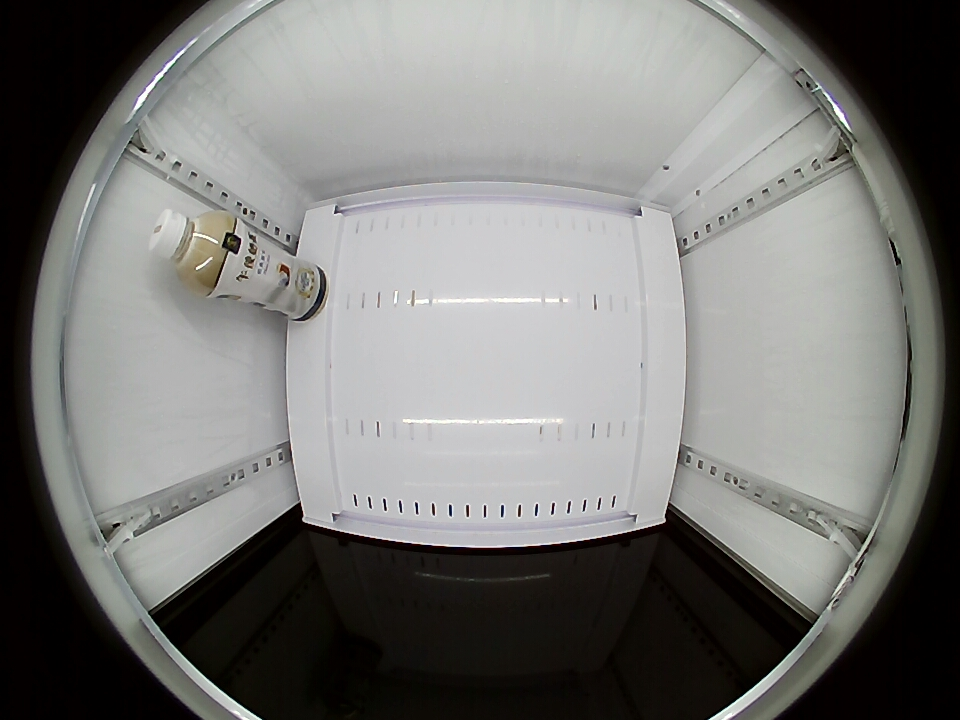wuhounaicha: (149, 208, 238, 295)
